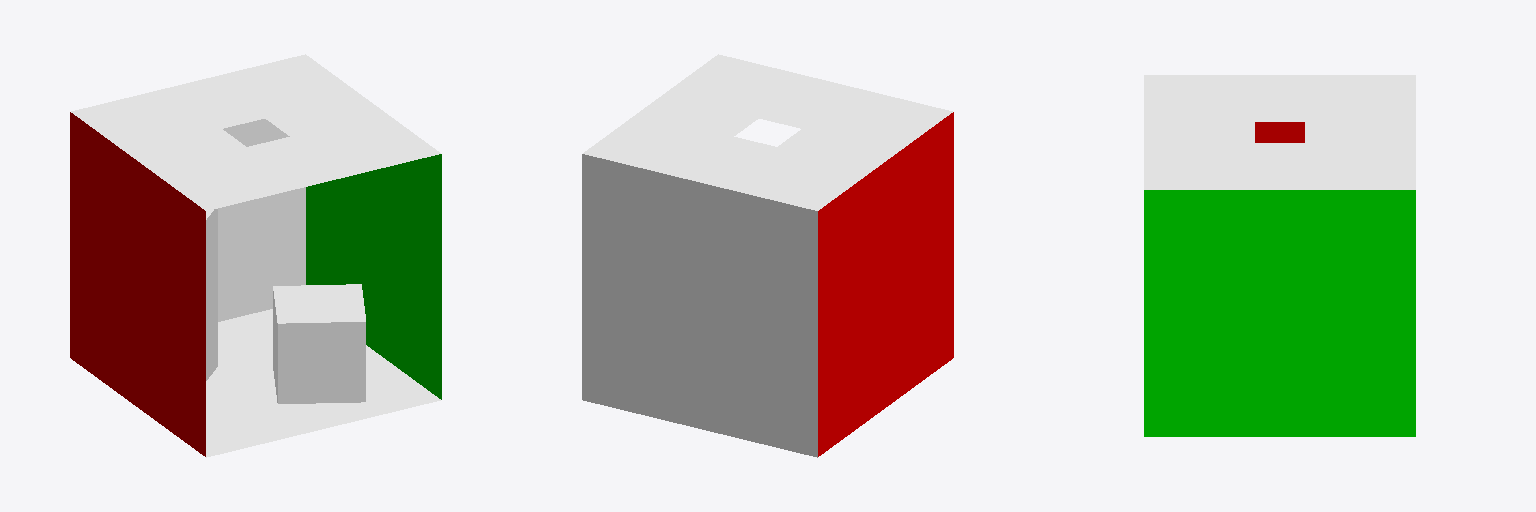
File: Cornell.obj
3 renders of one model, left to right at view 1: azimuth 30°, elevation 25°; view 2: azimuth 150°, elevation 25°; view 3: azimuth 270°, elevation 25°, orthographic.
Visible parts, largest first — view 1: Box02; view 2: Box02; view 3: Box02.
Part boxes in pixels (x1,y1,x2,y2): Box02: (70, 54, 441, 457); Box02: (582, 54, 953, 457); Box02: (1144, 75, 1415, 436).
Bounding box in the file's own units: 55 × 55 × 55.